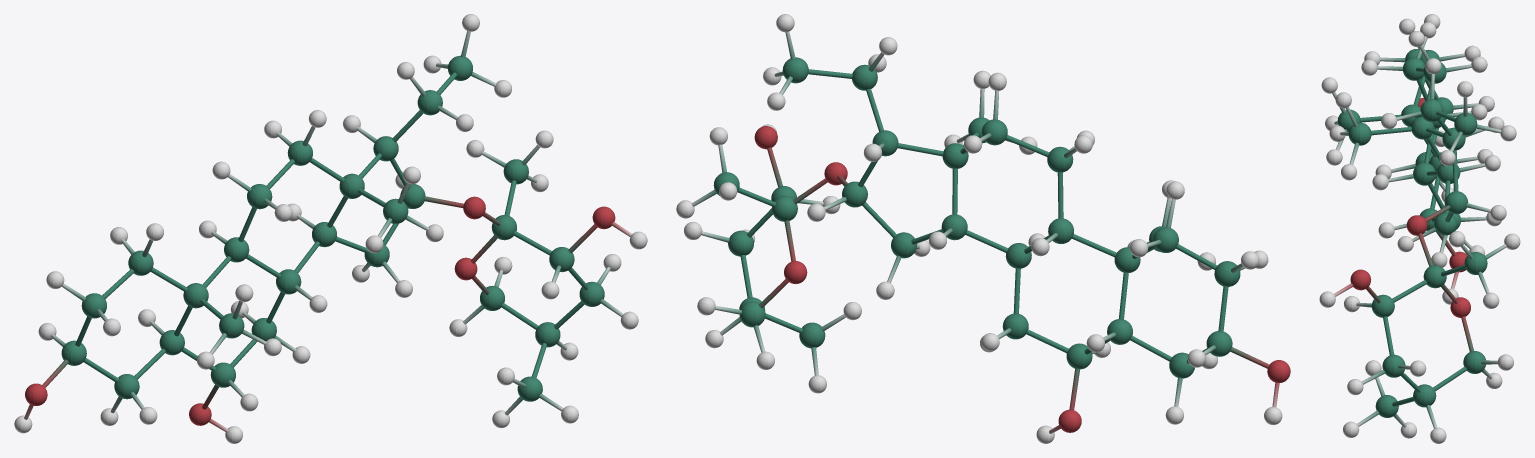
The model's file is Hongguanggenin.fbx.
3 views of the same model, side by side, from view 1: azimuth 30°, elevation 25°; view 2: azimuth 150°, elevation 25°; view 3: azimuth 270°, elevation 25° (orthographic). The views are drawn at different scales.
Visible parts, largest first — view 1: curMeshHyperballExportedMesh; view 2: curMeshHyperballExportedMesh; view 3: curMeshHyperballExportedMesh.
Boxes of the visible parts, left/top/right/bottom form: curMeshHyperballExportedMesh: left=14, top=14, right=647, bottom=443; curMeshHyperballExportedMesh: left=676, top=14, right=1290, bottom=443; curMeshHyperballExportedMesh: left=1319, top=14, right=1520, bottom=443.
Bounding box in the file's own units: 15.26 × 9.6 × 4.91.
